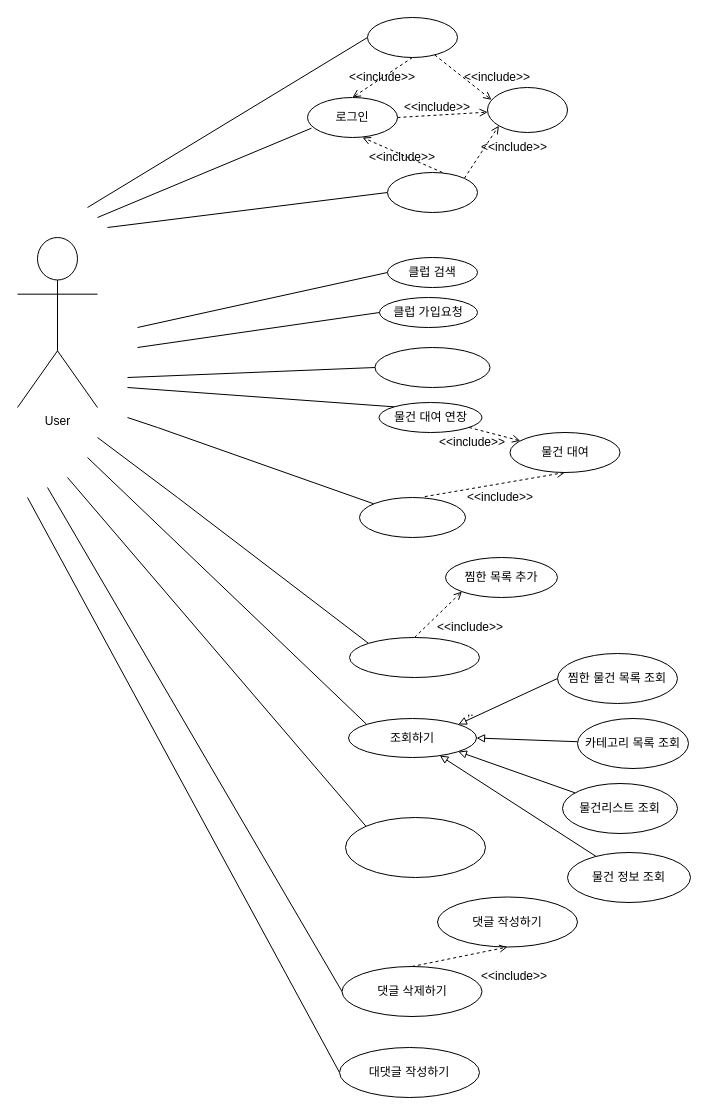
Some shapes in this 708 by 1115 pixel diagram are drawn without their labels. The centre of each missing label's shape, as x and y in pixels:
"댓글 리스트 가져오기" belongs at (415,847).
"로그아웃" belongs at (432,192).
"물건 대여 목록 조회" belongs at (432,367).
"물건 반납" belongs at (412,517).
"찜한 목록에서 제거" belongs at (414,657).
"회원가입" belongs at (527,109).
"회원탈퇴" belongs at (412,37).
